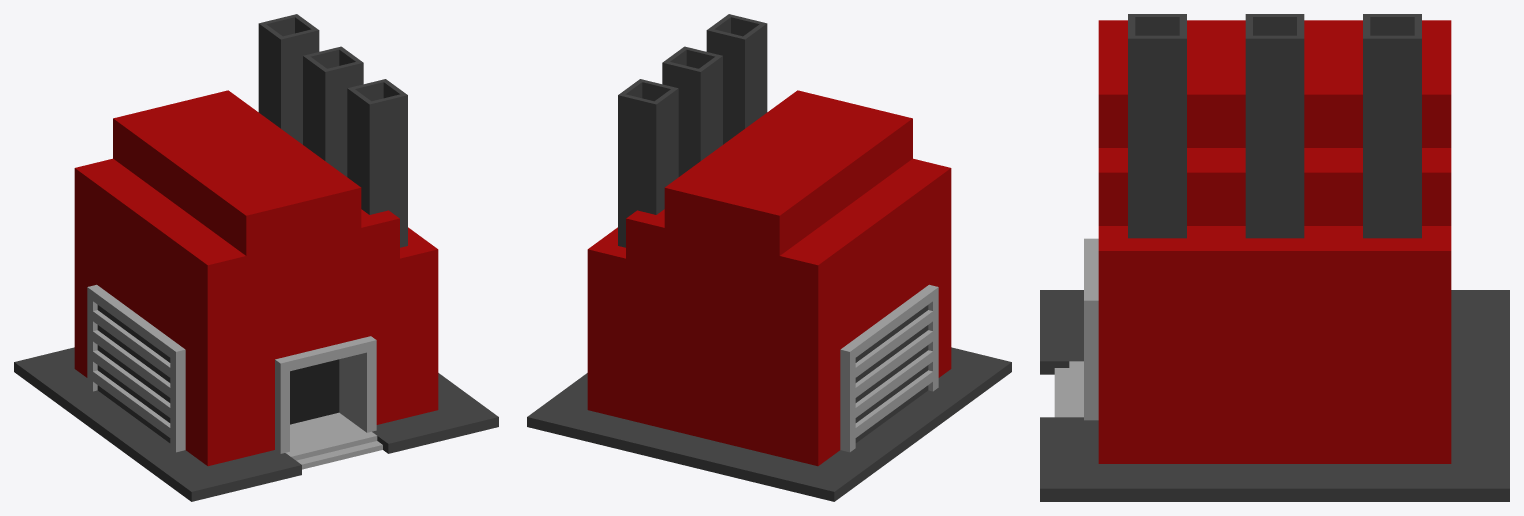
Rendered from Red-2.obj.
The picture shows the model from 3 angles, left to right: view 1: azimuth 30°, elevation 25°; view 2: azimuth 150°, elevation 25°; view 3: azimuth 270°, elevation 25°; orthographic projection. The views are drawn at different scales.
Parts seen in each view (by area): view 1: Red-2; view 2: Red-2; view 3: Red-2.
Boxes of the visible parts, x1,y1,x2,y2 form: Red-2: [14, 14, 498, 501]; Red-2: [527, 14, 1011, 501]; Red-2: [1040, 14, 1509, 501].
Bounding box in the file's own units: 64 × 64 × 64.
Materials: 1 (1 with a texture image).
